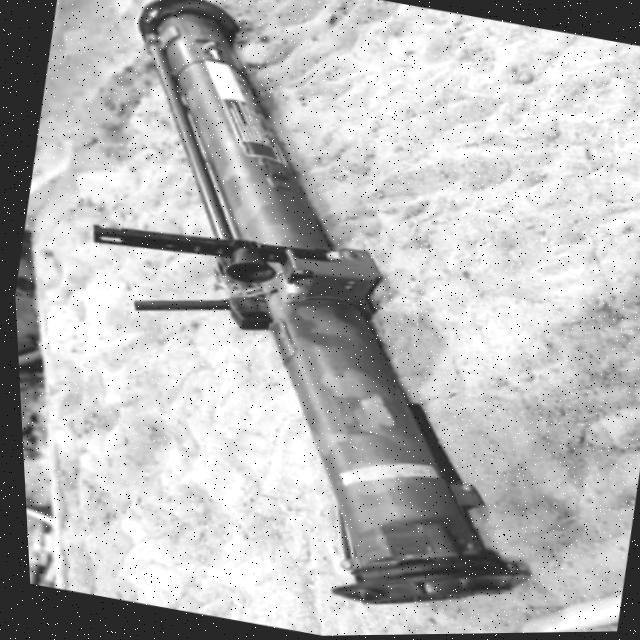rocket: (21, 0, 627, 640)
